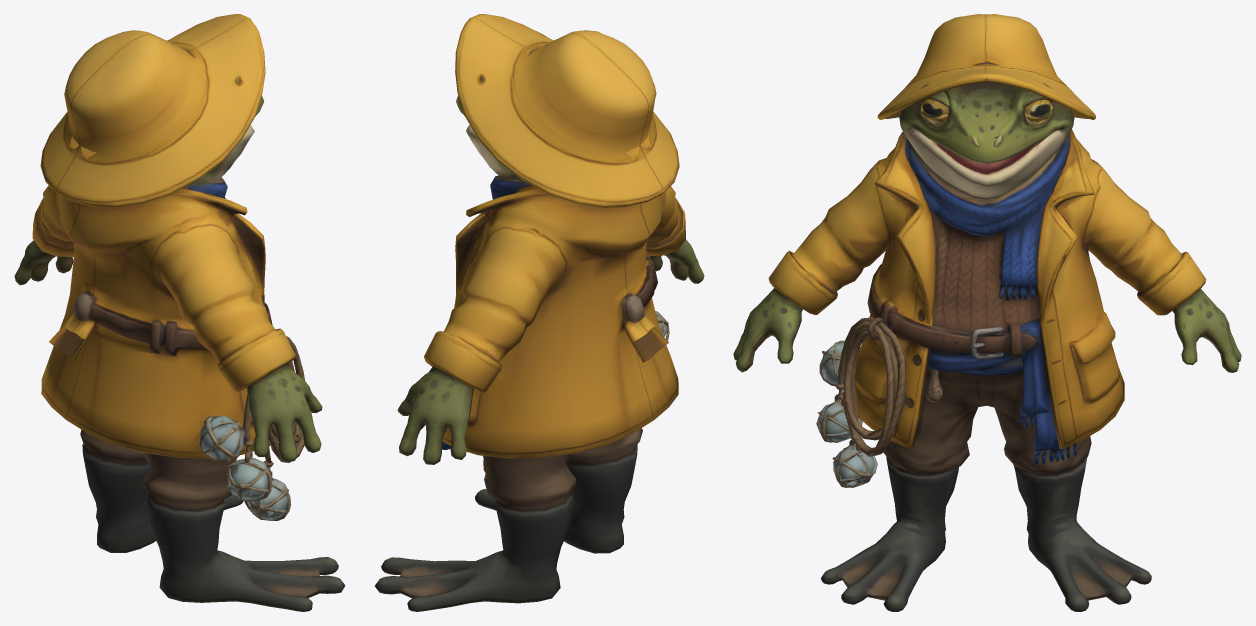
The model's file is harpooner_tripo.glb.
3 renders of one model, left to right at view 1: azimuth 30°, elevation 25°; view 2: azimuth 150°, elevation 25°; view 3: azimuth 270°, elevation 25°, orthographic.
Parts seen in each view (by area): view 1: tripo_node_72387df3-59b2-4f20-ad01-92277924d383; view 2: tripo_node_72387df3-59b2-4f20-ad01-92277924d383; view 3: tripo_node_72387df3-59b2-4f20-ad01-92277924d383.
Boxes of the visible parts, x1,y1,x2,y2 form: tripo_node_72387df3-59b2-4f20-ad01-92277924d383: (14, 14, 345, 611); tripo_node_72387df3-59b2-4f20-ad01-92277924d383: (374, 14, 704, 611); tripo_node_72387df3-59b2-4f20-ad01-92277924d383: (733, 14, 1241, 611).
Size of the model in its own units: 0.457 by 0.998 by 0.873.
1 material, 1 textured.
